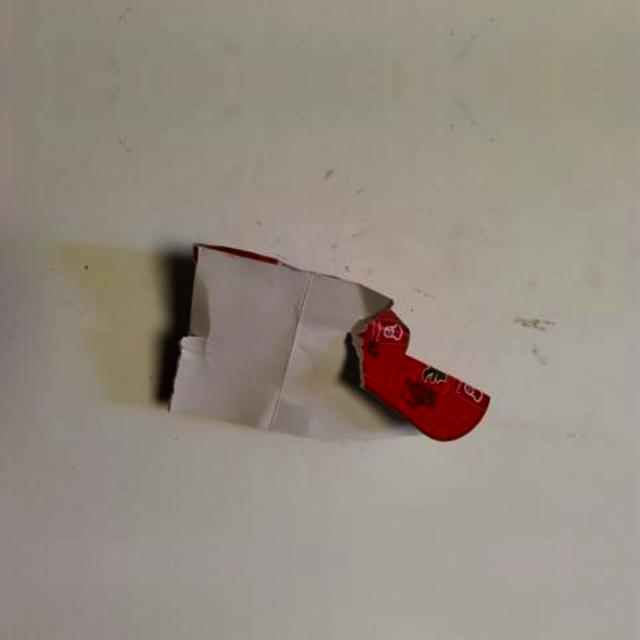paper: (145, 206, 538, 486), (145, 634, 538, 640)
